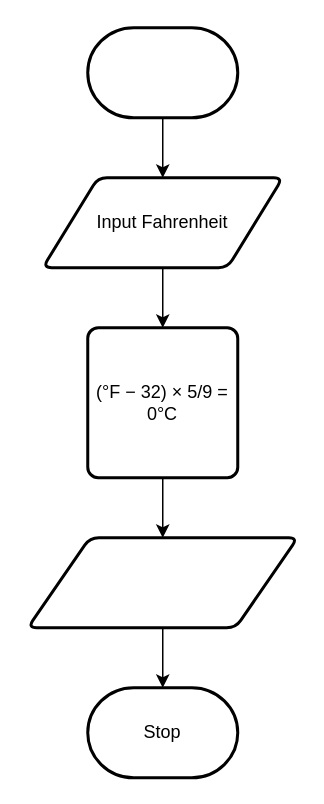
Image size: 324x804. Some labels were removed from this diagram. The shapes that lost their labels are listed below. From the top down, each one's centre as x and y in pixels, then its label:
At [162,72]: "Start".
At [162,582]: "Output degrees celsius".
